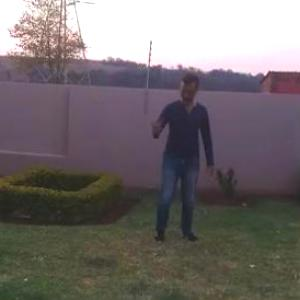takeoff-hand: (146, 112, 168, 141)
